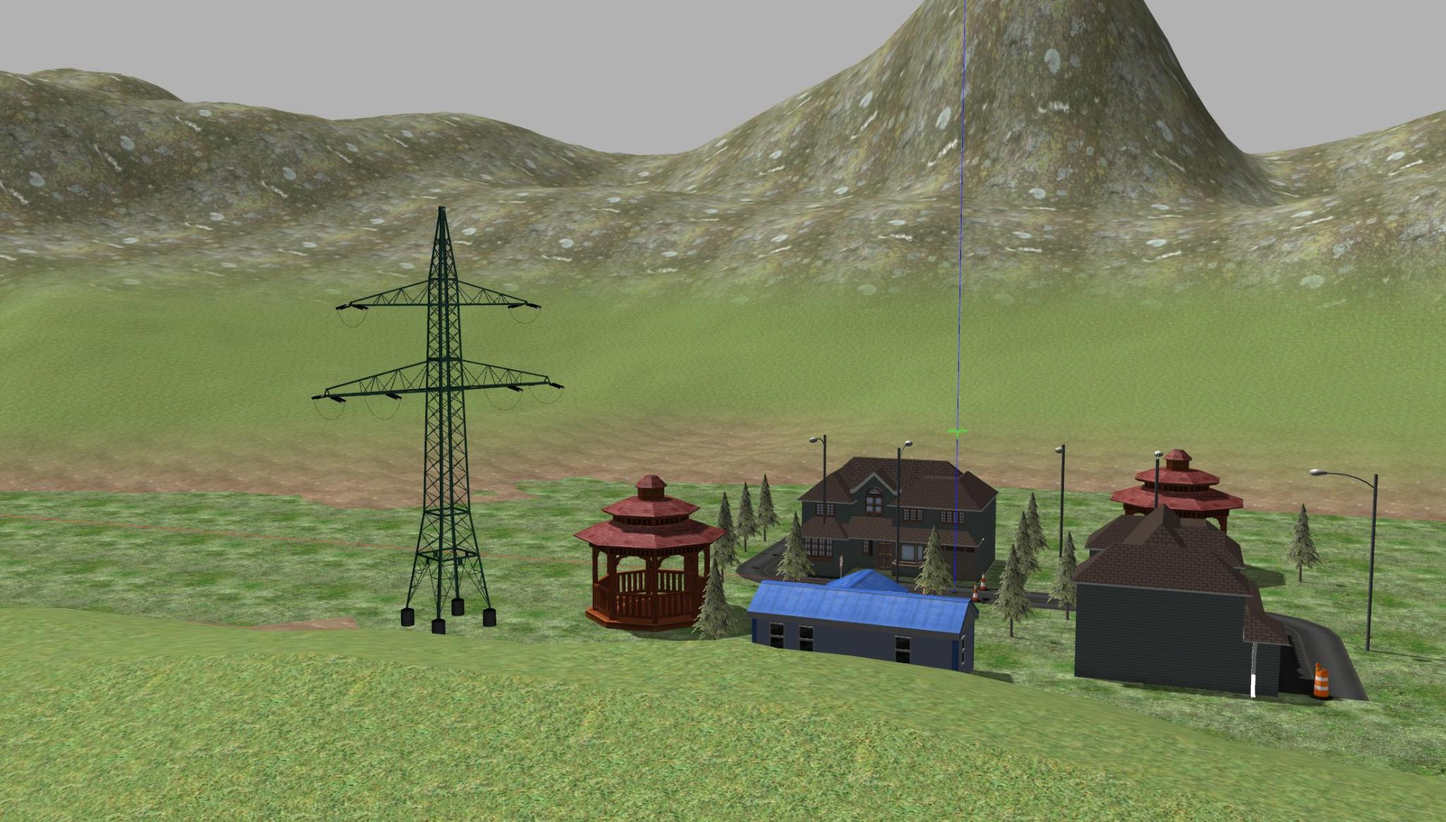tower: (326, 202, 543, 626)
